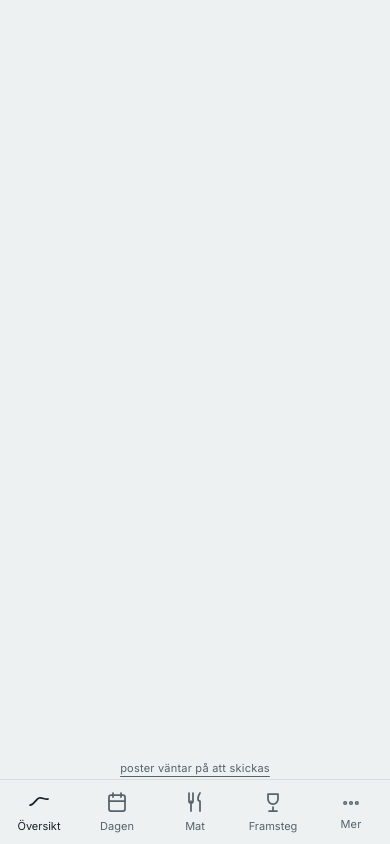
Scenario: the Mer sheet › does not offer it to anybody else
Click the button with test id "nav-more": (351,812) x1=312 y1=780 x2=389 y2=843
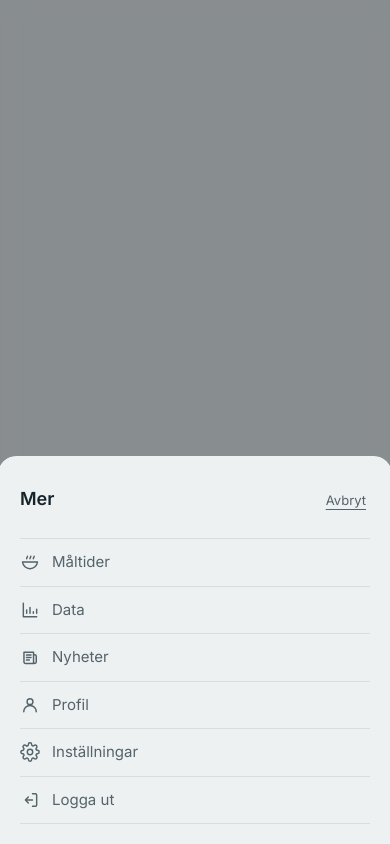
Expected: the link with test id "more-installningar" is shown, x1=20 y1=742 x2=138 y2=762
